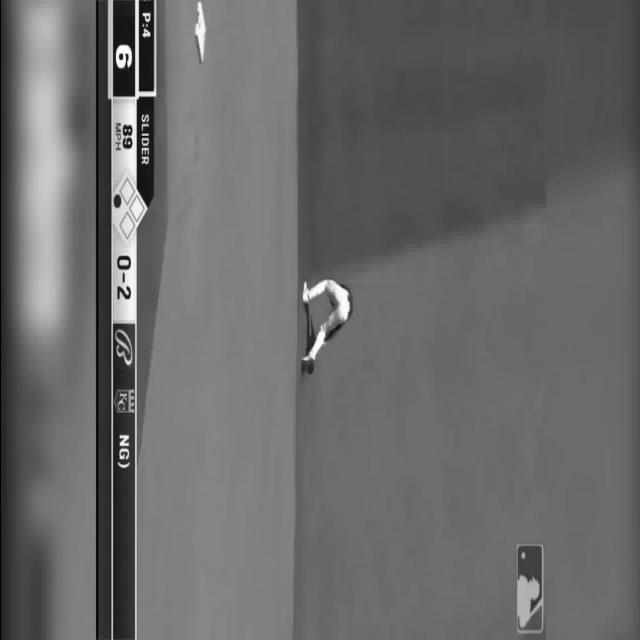base: (194, 0, 205, 64)
shoe: (301, 282, 308, 305)
